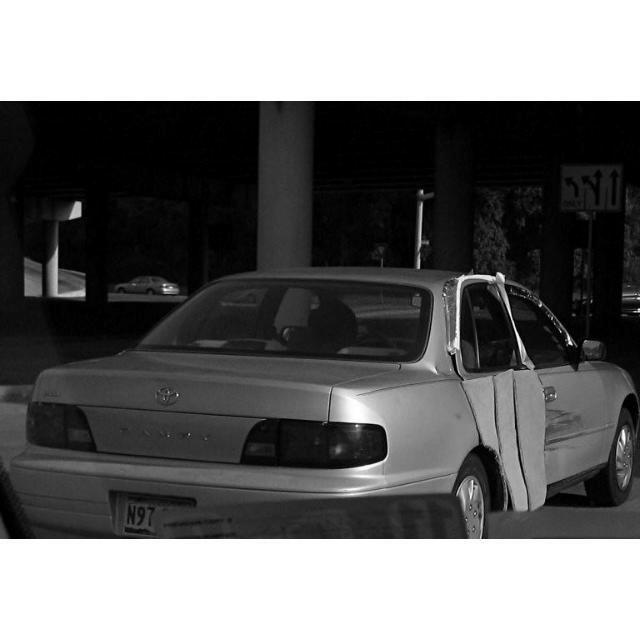doorouter-dent: (535, 336, 610, 495)
